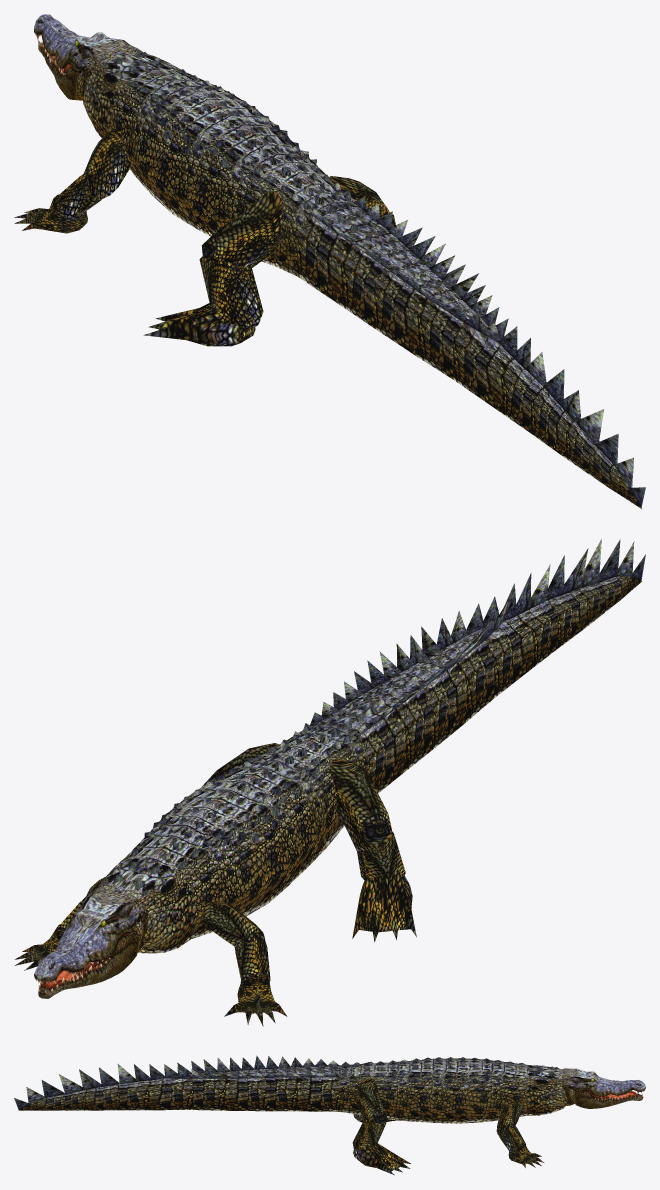
The model's file is deinosuchus.glb.
3 renders of one model, top to bottom at view 1: azimuth 30°, elevation 25°; view 2: azimuth 150°, elevation 25°; view 3: azimuth 270°, elevation 25°, orthographic. The views are drawn at different scales.
Parts seen in each view (by area): view 1: deinosuchus; view 2: deinosuchus; view 3: deinosuchus.
Part boxes in pixels (x1,y1,x2,y2): deinosuchus: [14, 14, 645, 508]; deinosuchus: [14, 539, 645, 1026]; deinosuchus: [14, 1055, 645, 1175].
Size of the model in its own units: 30.14 by 16.12 by 116.
9 materials, 9 textured.
